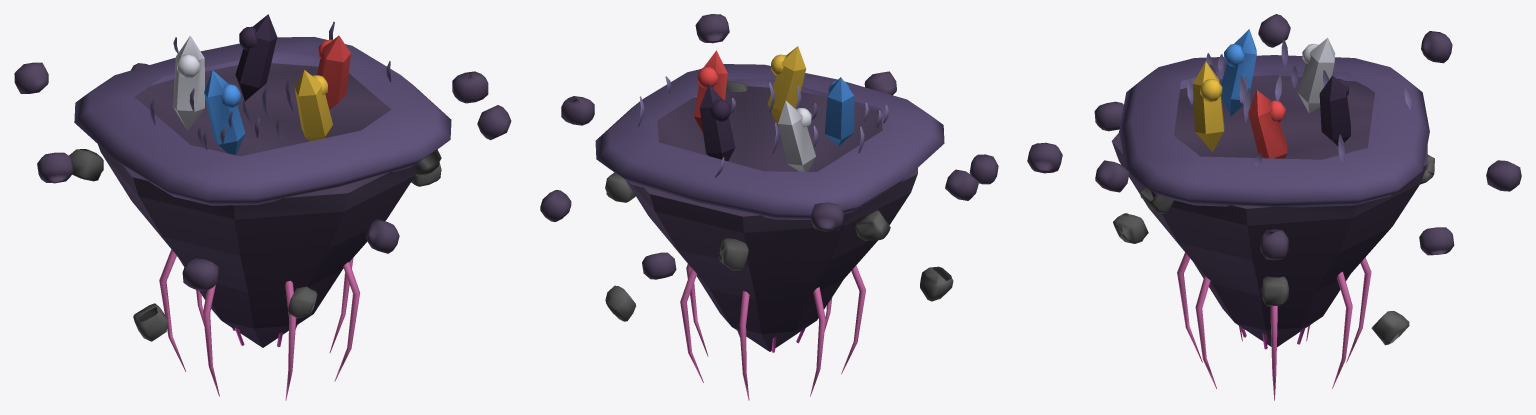
File: chaosrock.glb
The picture shows the model from 3 angles, left to right: view 1: azimuth 30°, elevation 25°; view 2: azimuth 150°, elevation 25°; view 3: azimuth 270°, elevation 25°; orthographic projection. The views are drawn at different scales.
Parts seen in each view (by area): view 1: chaosrock; view 2: chaosrock; view 3: chaosrock.
Boxes of the visible parts, x1,y1,x2,y2 form: chaosrock: (14,14,511,400); chaosrock: (540,14,998,400); chaosrock: (1027,14,1521,400).
Size of the model in its own units: 3.34 by 2.32 by 3.34.
